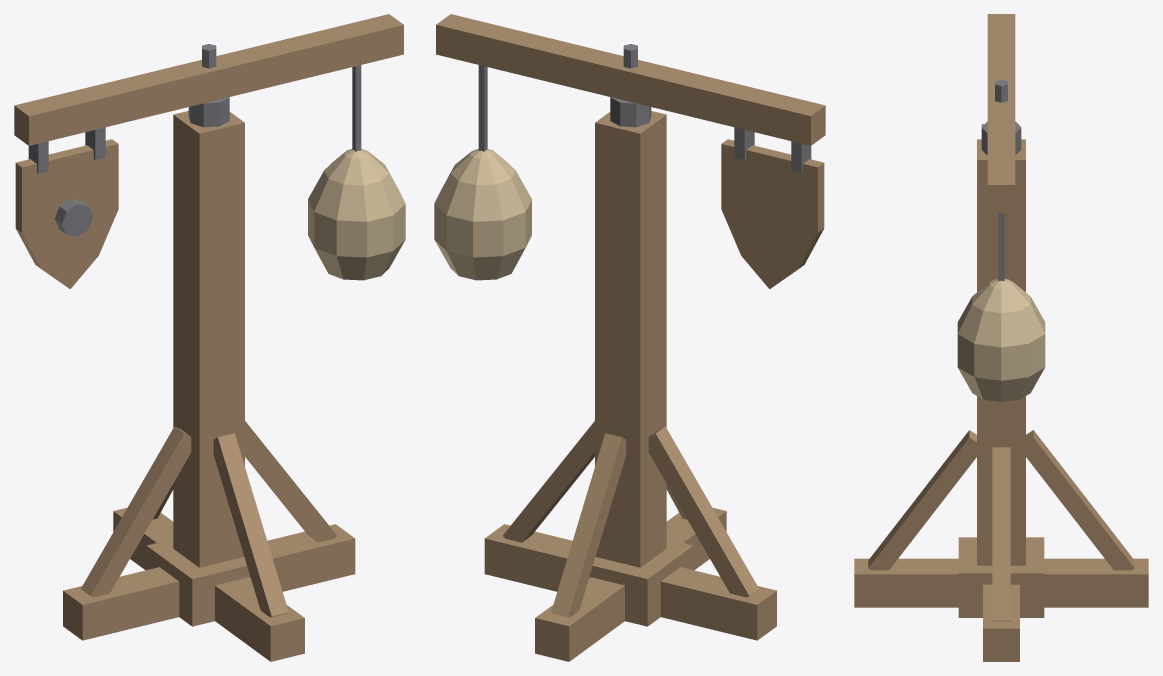
File: prop-quintain-wood.glb
3 renders of one model, left to right at view 1: azimuth 30°, elevation 25°; view 2: azimuth 150°, elevation 25°; view 3: azimuth 270°, elevation 25°, orthographic. The views are drawn at different scales.
Parts seen in each view (by area): view 1: prop-quintain-wood; view 2: prop-quintain-wood; view 3: prop-quintain-wood.
Part boxes in pixels (bbox=[...]): prop-quintain-wood: bbox=[14, 14, 405, 661]; prop-quintain-wood: bbox=[434, 14, 825, 661]; prop-quintain-wood: bbox=[854, 14, 1148, 661].
Bounding box in the file's own units: 1.34 × 1.86 × 0.96.
